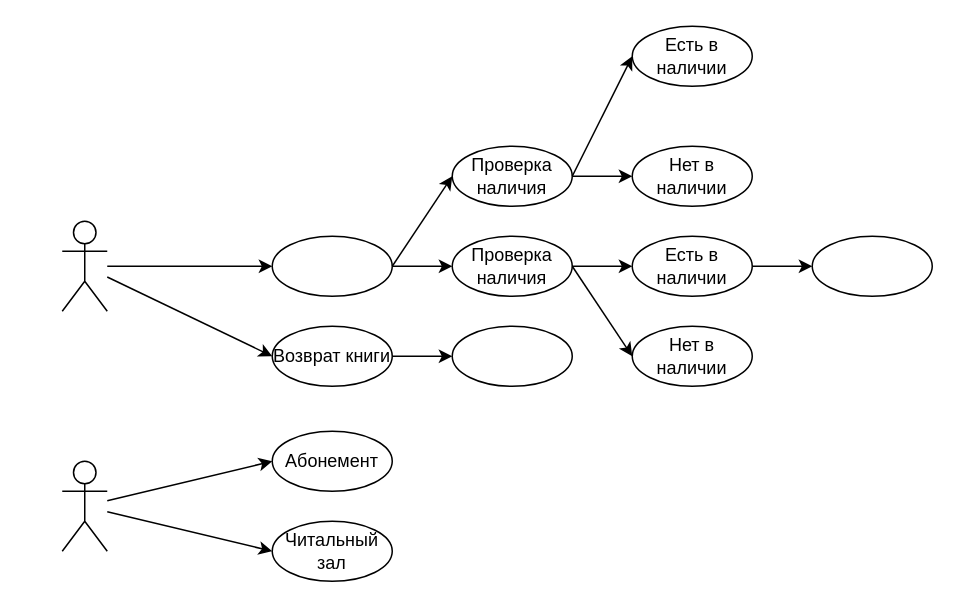
Image size: 959x609. Some labels were removed from this diagram. The shapes that lost their labels are listed below. From the top down, each one's centre as x and y in pixels, then its label:
At [84,265]: "Читатель".
At [331,265]: "Поиск книги".
At [871,265]: "Заказ книги".
At [511,355]: "Проверка номера книги".
At [84,505]: "Библиотекарь".
